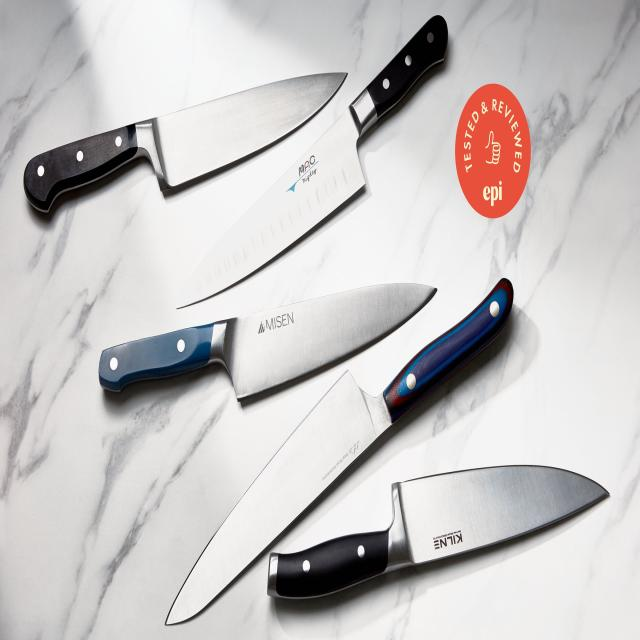Knife: (265, 439, 620, 640)
